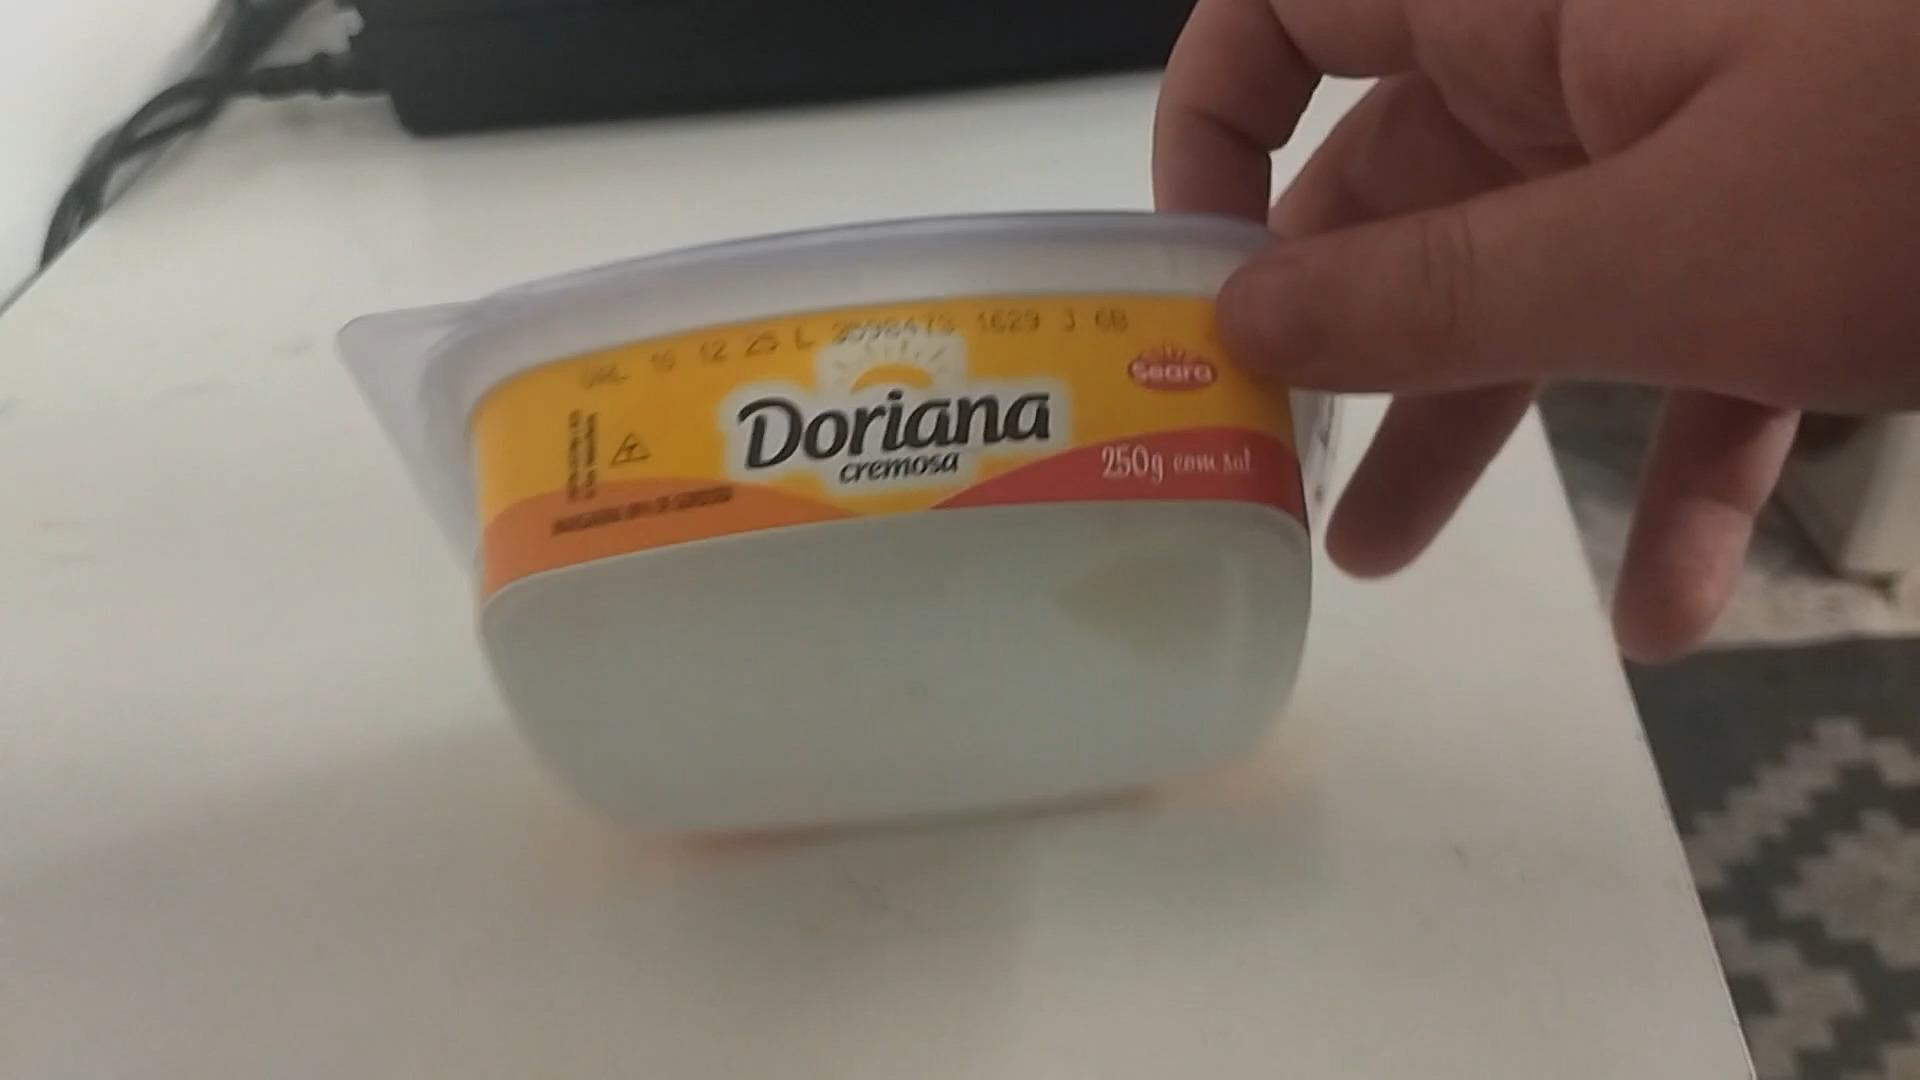butter: (339, 212, 1336, 839)
